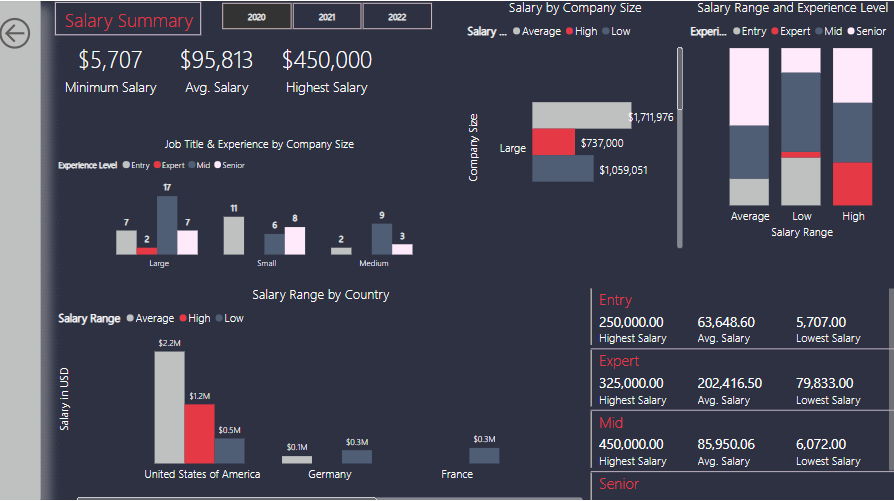

Layout of this report page (visuals, bound fields, positions):
{"tool":"powerbi","page":{"name":"Salary Summary","canvas":[1280,720],"ordinal":1},"visuals":[{"type":"card","fields":{"Values":["Max(ds_salaries.salary_in_usd)"]},"box":[394.6,52.8,151.7,93.5],"z":0,"group":"g1"},{"type":"textbox","box":[85,5.7,206.9,46.8],"z":0},{"type":"card","fields":{"Values":["Avg(ds_salaries.salary_in_usd)"]},"box":[240.1,52.8,148.8,93.5],"z":1000,"group":"g1"},{"type":"clusteredBarChart","title":"Salary by Company Size ","fields":{"Category":["ds_salaries.company_size"],"Y":["Sum(ds_salaries.salary_in_usd)"],"Series":["ds_salaries.Salary_range"]},"box":[665,0,315.4,359.6],"z":1000},{"type":"card","fields":{"Values":["Min(ds_salaries.salary_in_usd)"]},"box":[85.6,52.8,157.3,93.5],"z":2000,"group":"g1"},{"type":"hundredPercentStackedColumnChart","title":"Salary Range and Experience Level","fields":{"Category":["ds_salaries.Salary_range"],"Series":["ds_salaries.experience_level"],"Y":["Sum(ds_salaries.salary_in_usd)"]},"box":[980.3,0,299.7,346.8],"z":2000},{"type":"multiRowCard","fields":{"Values":["Experience_Level_Salary.experience_level","Max(Experience_Level_Salary.Highest_Salary)","Avg(Experience_Level_Salary.Avg_Salary)","Min(Experience_Level_Salary.Lowest_Salary)"]},"box":[839.1,406.7,440.9,309.7],"z":3000},{"type":"clusteredColumnChart","title":"Salary Range by Country ","fields":{"Category":["country-codes.Country"],"Series":["ds_salaries.Salary_range"],"Y":["Sum(ds_salaries.salary_in_usd)"]},"box":[85.6,406.7,753.4,313.9],"z":4000},{"type":"slicer","fields":{"Values":["ds_salaries.work_year.Variation.Date Hierarchy.Year"]},"box":[296.8,0,346.8,51.4],"z":5000},{"type":"clusteredColumnChart","title":"Job Title & Experience by Company Size","fields":{"Category":["ds_salaries.company_size"],"Series":["ds_salaries.experience_level"],"Y":["CountNonNull(ds_salaries.job_title)"]},"box":[85.6,195.5,579.4,211.2],"z":6000},{"type":"group","id":"g1","title":"Group 1","box":[85.6,52.8,459.5,92.8],"z":7000},{"type":"actionButton","box":[0,0,55.7,99.9],"z":8000}]}

Visuals, with their boxes on the page's 1280x720 design canvas (x1, y1, x2, y2). These are canvas units, not pixel positions in the 894x501 screenshot, which may show the page scaled, cropped or inside an application window:
card - Max(ds_salaries.salary_in_usd): [x1=395, y1=53, x2=546, y2=146]
textbox: [x1=85, y1=6, x2=292, y2=52]
card - Avg(ds_salaries.salary_in_usd): [x1=240, y1=53, x2=389, y2=146]
"Salary by Company Size " clusteredBarChart: [x1=665, y1=0, x2=980, y2=360]
card - Min(ds_salaries.salary_in_usd): [x1=86, y1=53, x2=243, y2=146]
"Salary Range and Experience Level" hundredPercentStackedColumnChart: [x1=980, y1=0, x2=1280, y2=347]
multiRowCard - Experience_Level_Salary.experience_level x Max(Experience_Level_Salary.Highest_Salary): [x1=839, y1=407, x2=1280, y2=716]
"Salary Range by Country " clusteredColumnChart: [x1=86, y1=407, x2=839, y2=721]
slicer - ds_salaries.work_year.Variation.Date Hierarchy.Year: [x1=297, y1=0, x2=644, y2=51]
"Job Title & Experience by Company Size" clusteredColumnChart: [x1=86, y1=196, x2=665, y2=407]
"Group 1" group: [x1=86, y1=53, x2=545, y2=146]
actionButton: [x1=0, y1=0, x2=56, y2=100]
